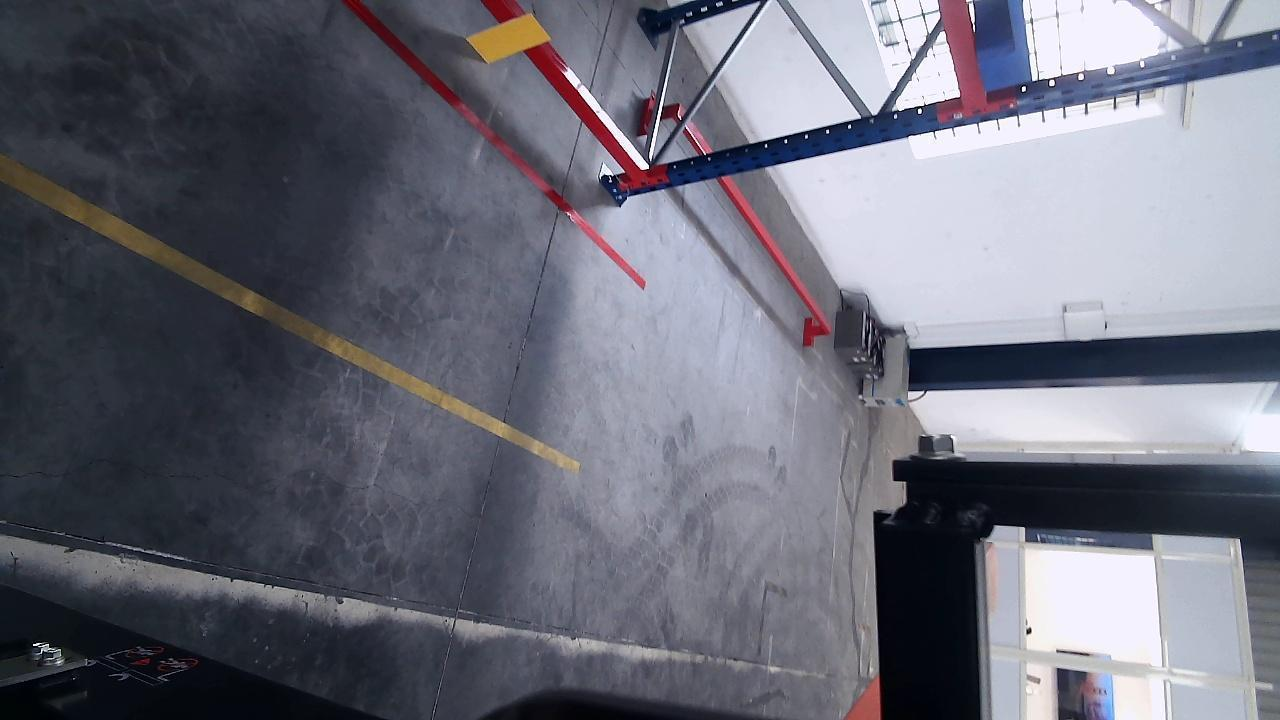red_line: (342, 0, 647, 290)
yellow_line: (0, 144, 579, 477)
